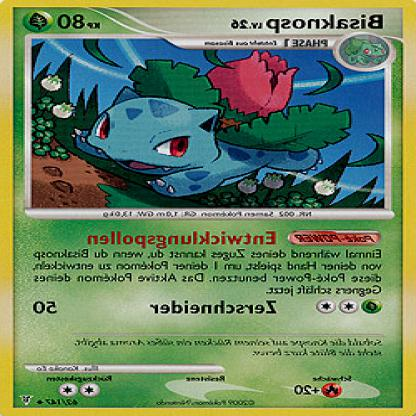Ivysaur: (82, 51, 334, 200)
